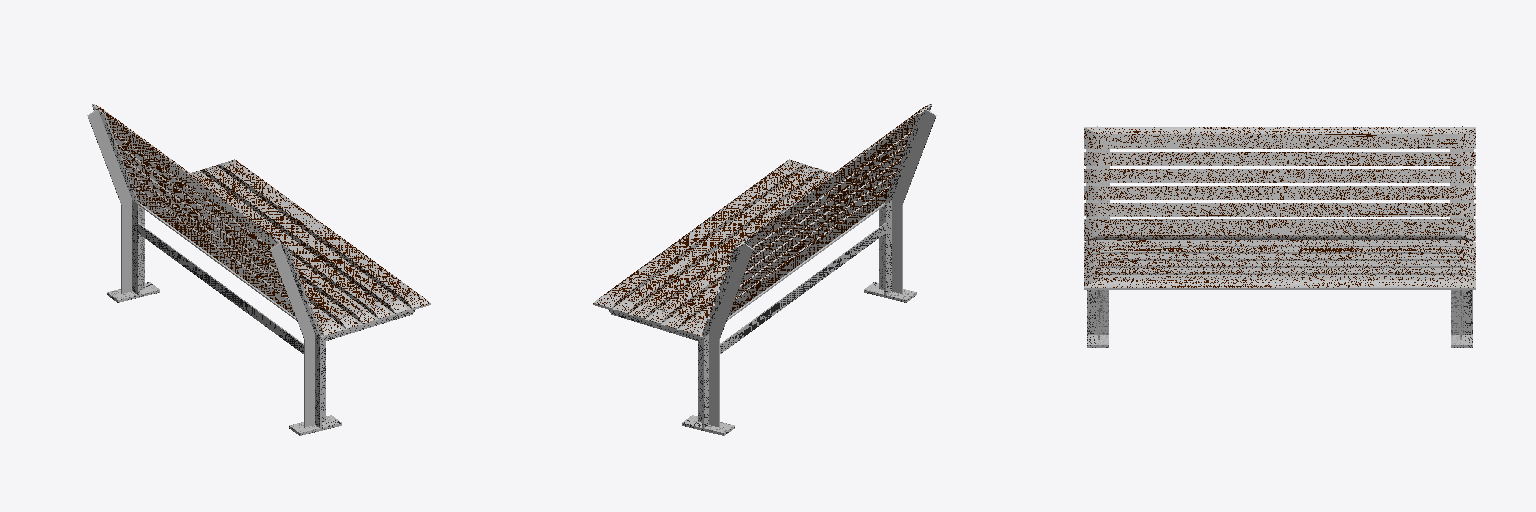
3 views of the same model, side by side, from view 1: azimuth 30°, elevation 25°; view 2: azimuth 150°, elevation 25°; view 3: azimuth 270°, elevation 25° (orthographic).
Visible parts, largest first — view 1: mesh17.003_mesh17-geometry, mesh1.003_mesh1-geometry, mesh13.018_mesh13-geometry, mesh11.020_mesh11-geometry, mesh15.003_mesh15-geometry, mesh9.039_mesh9-geometry, mesh25.039_mesh25-geometry, mesh27.003_mesh27-geometry, mesh9.040_mesh9-geometry, mesh26.004_mesh26-geometry, mesh13.019_mesh13-geometry, mesh9.034_mesh9-geometry (+14 smaller); view 2: mesh1.003_mesh1-geometry, mesh17.003_mesh17-geometry, mesh11.020_mesh11-geometry, mesh27.003_mesh27-geometry, mesh13.018_mesh13-geometry, mesh25.039_mesh25-geometry, mesh25.040_mesh25-geometry, mesh9.039_mesh9-geometry, mesh15.003_mesh15-geometry, mesh14.004_mesh14-geometry, mesh13.019_mesh13-geometry, mesh11.017_mesh11-geometry (+14 smaller); view 3: mesh11.017_mesh11-geometry, mesh13.017_mesh13-geometry, mesh13.019_mesh13-geometry, mesh11.019_mesh11-geometry, mesh9.037_mesh9-geometry, mesh9.035_mesh9-geometry, mesh9.038_mesh9-geometry, mesh9.033_mesh9-geometry, mesh25.033_mesh25-geometry, mesh25.037_mesh25-geometry, mesh25.035_mesh25-geometry, mesh25.038_mesh25-geometry (+14 smaller).
Boxes of the visible parts, box(x1,y1,x2,y2) form: mesh17.003_mesh17-geometry: box(88, 110, 131, 293); mesh1.003_mesh1-geometry: box(271, 244, 314, 427); mesh13.018_mesh13-geometry: box(315, 226, 430, 308); mesh11.020_mesh11-geometry: box(216, 159, 329, 239); mesh15.003_mesh15-geometry: box(223, 243, 414, 428); mesh9.039_mesh9-geometry: box(301, 232, 407, 313); mesh25.039_mesh25-geometry: box(200, 166, 311, 244); mesh27.003_mesh27-geometry: box(87, 109, 226, 297); mesh9.040_mesh9-geometry: box(281, 239, 390, 318); mesh26.004_mesh26-geometry: box(92, 105, 138, 300); mesh13.019_mesh13-geometry: box(92, 104, 198, 192); mesh9.034_mesh9-geometry: box(292, 255, 374, 323); mesh1.003_mesh1-geometry: box(892, 110, 935, 293); mesh17.003_mesh17-geometry: box(709, 244, 752, 427); mesh11.020_mesh11-geometry: box(593, 229, 712, 308); mesh27.003_mesh27-geometry: box(609, 243, 803, 428); mesh13.018_mesh13-geometry: box(690, 159, 807, 234); mesh25.039_mesh25-geometry: box(616, 232, 729, 313); mesh25.040_mesh25-geometry: box(633, 237, 742, 318); mesh9.039_mesh9-geometry: box(718, 166, 823, 238); mesh15.003_mesh15-geometry: box(798, 109, 936, 295); mesh14.004_mesh14-geometry: box(885, 105, 931, 300); mesh13.019_mesh13-geometry: box(729, 173, 836, 263); mesh11.017_mesh11-geometry: box(828, 104, 931, 189); mesh11.017_mesh11-geometry: box(1084, 127, 1286, 148); mesh13.017_mesh13-geometry: box(1084, 219, 1286, 240); mesh13.019_mesh13-geometry: box(1273, 127, 1475, 148); mesh11.019_mesh11-geometry: box(1273, 219, 1475, 240); mesh9.037_mesh9-geometry: box(1084, 186, 1286, 199); mesh9.035_mesh9-geometry: box(1084, 152, 1286, 165); mesh9.038_mesh9-geometry: box(1084, 203, 1286, 216); mesh9.033_mesh9-geometry: box(1084, 169, 1286, 182); mesh25.033_mesh25-geometry: box(1282, 169, 1475, 182); mesh25.037_mesh25-geometry: box(1287, 186, 1475, 199); mesh25.035_mesh25-geometry: box(1287, 152, 1475, 165); mesh25.038_mesh25-geometry: box(1286, 203, 1475, 216).
Bounding box in the file's own units: 0.3708 × 0.4446 × 0.8154.
5 materials, 2 textured.